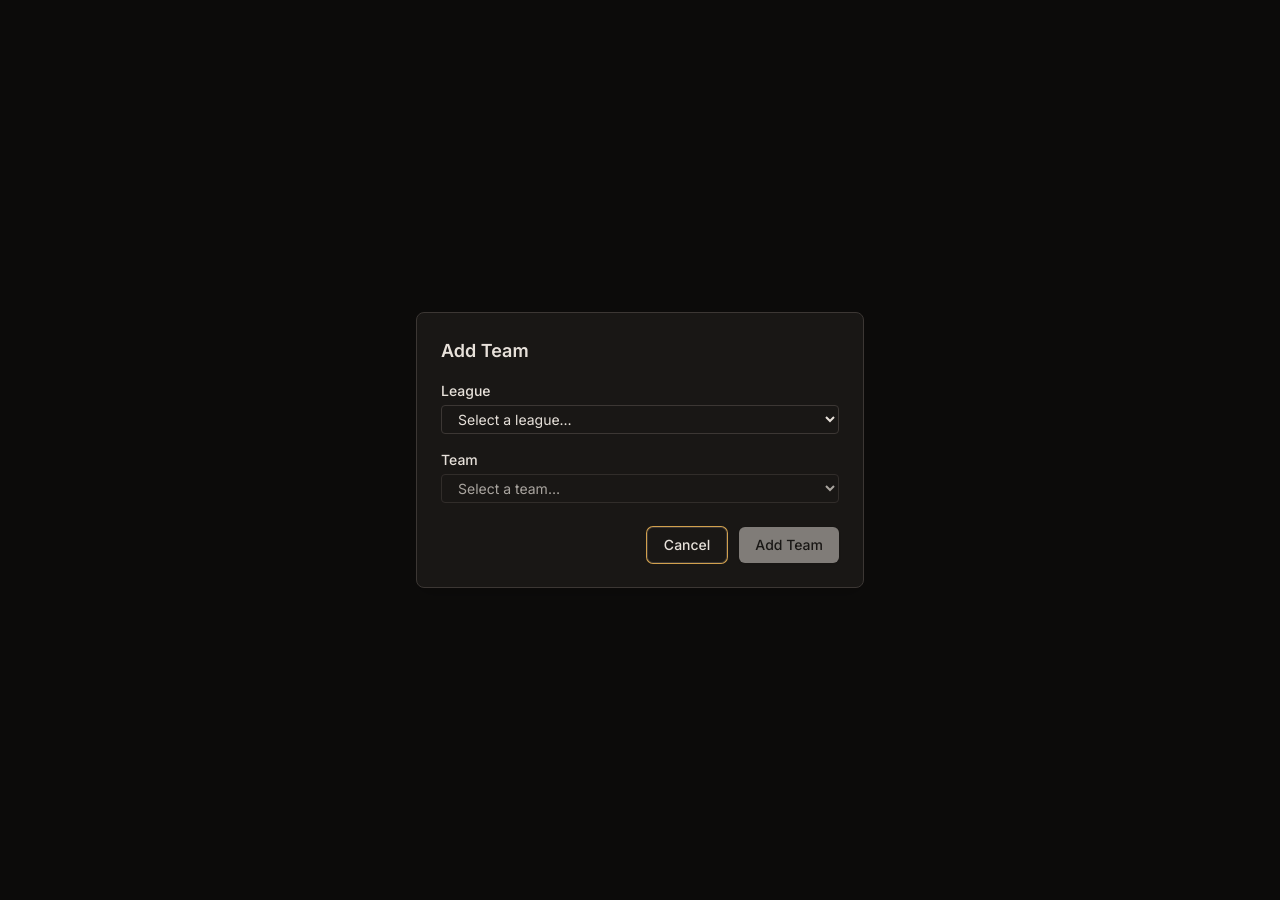
Scenario: AddTeamDialog › shows error on submission failure
Select "AL Catfish Hunter" in the dropdown labelled "League": [640, 420] box [441,405,839,434]
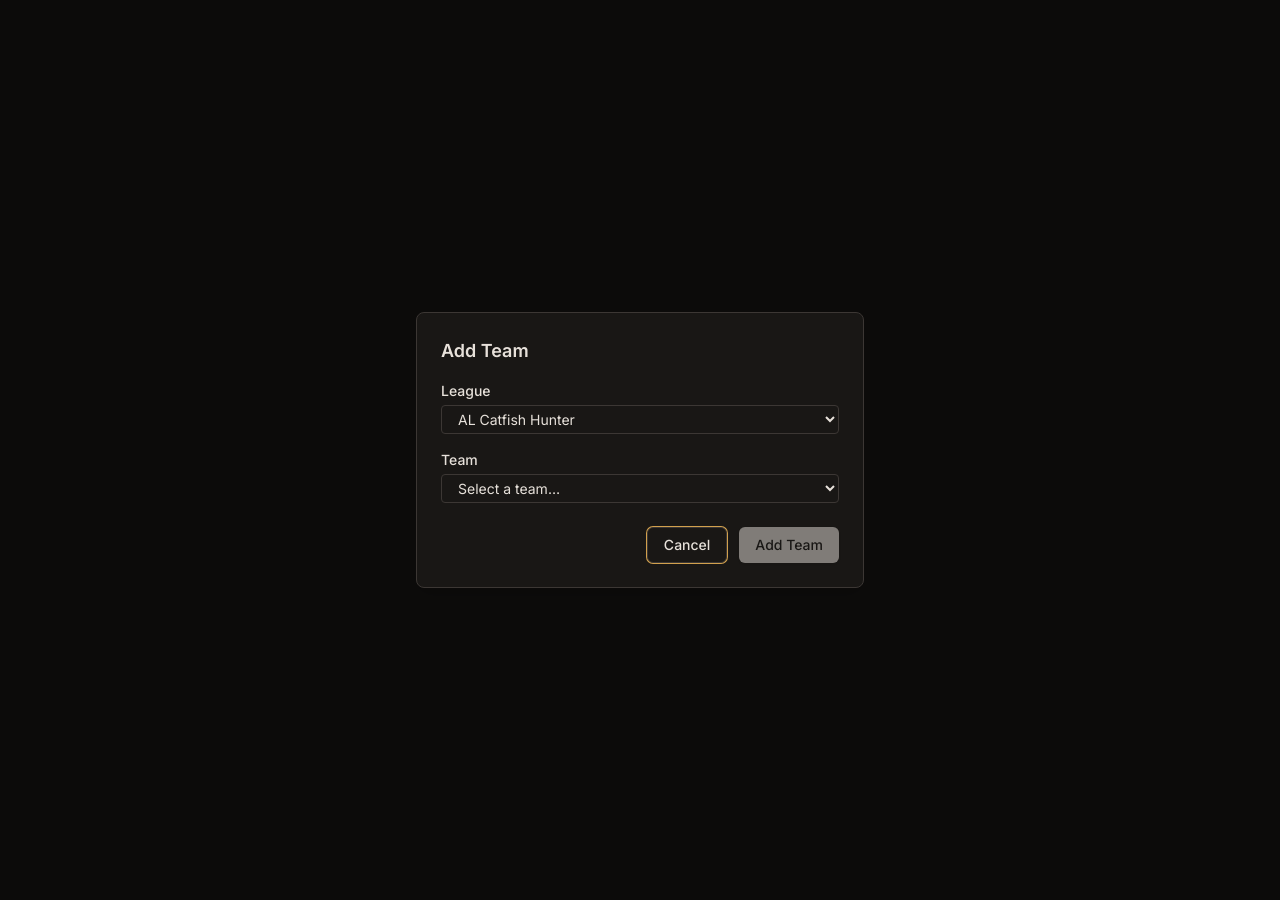
Select "Team #1 — Owner One" in the dropdown labelled "Team": [640, 488] box [441,474,839,503]
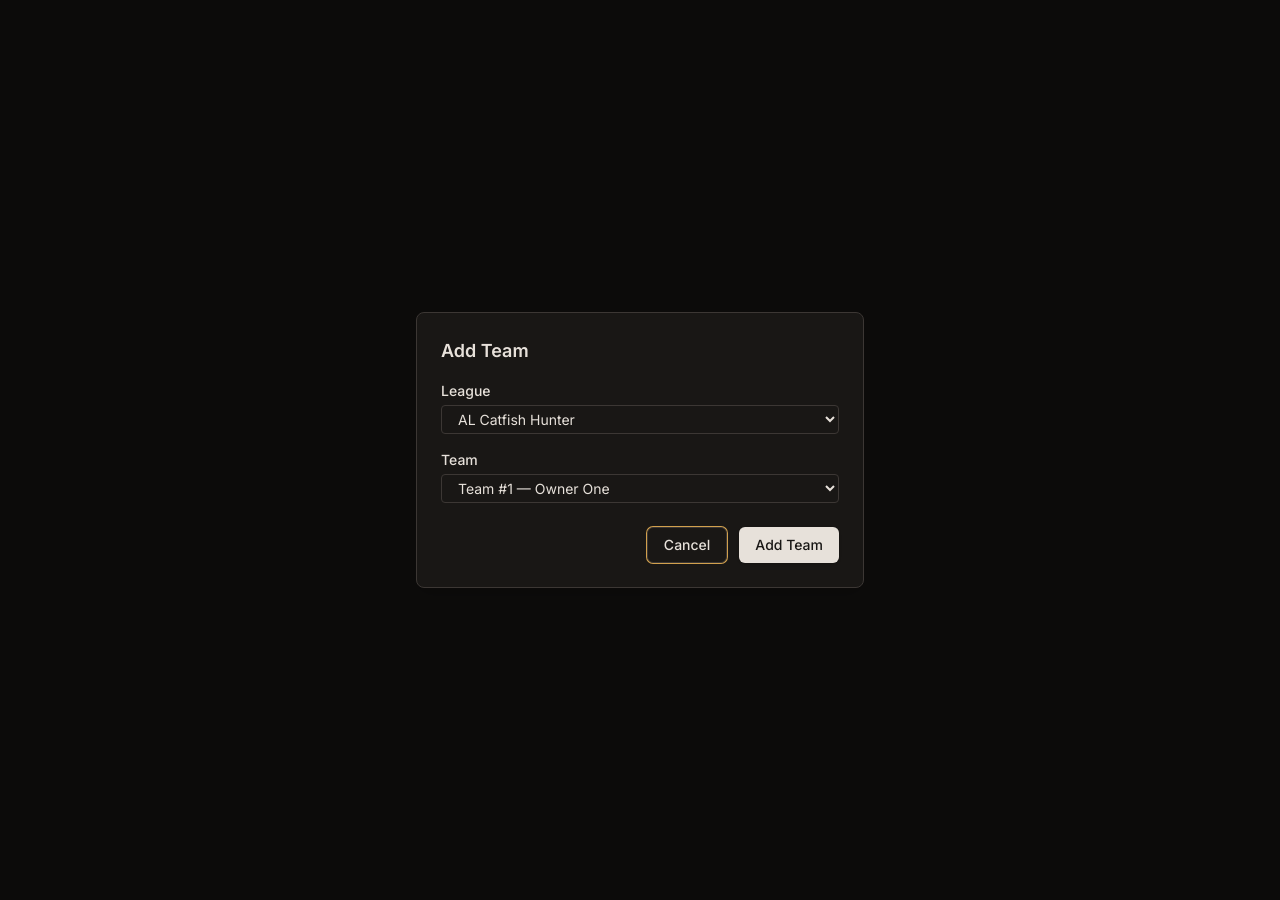
Click the button "Add Team": [789, 545] box [739,527,839,563]
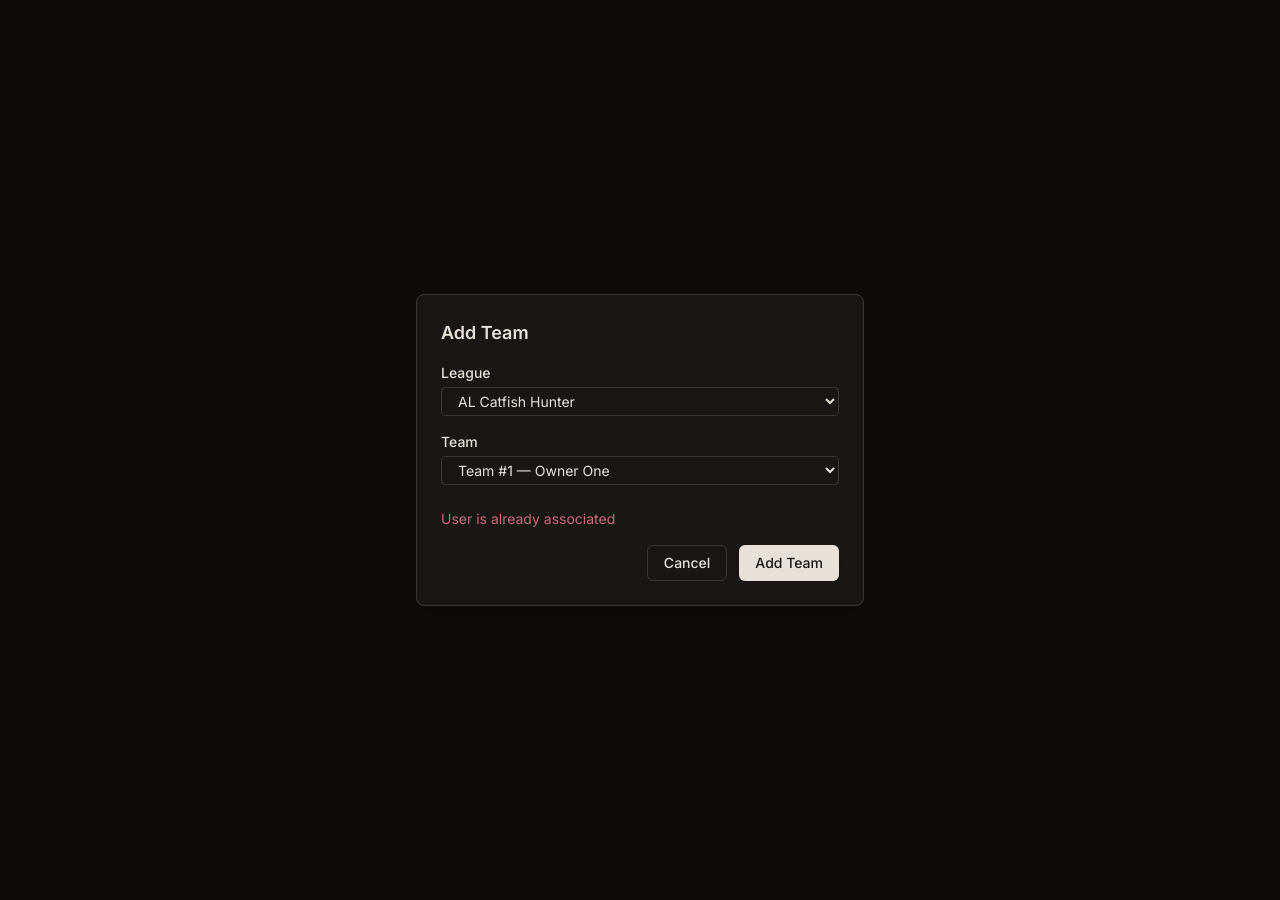
Expected: the text "User is already associated" is shown, [441,510,615,527]
